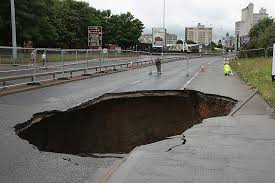pothole: (16, 89, 239, 157)
